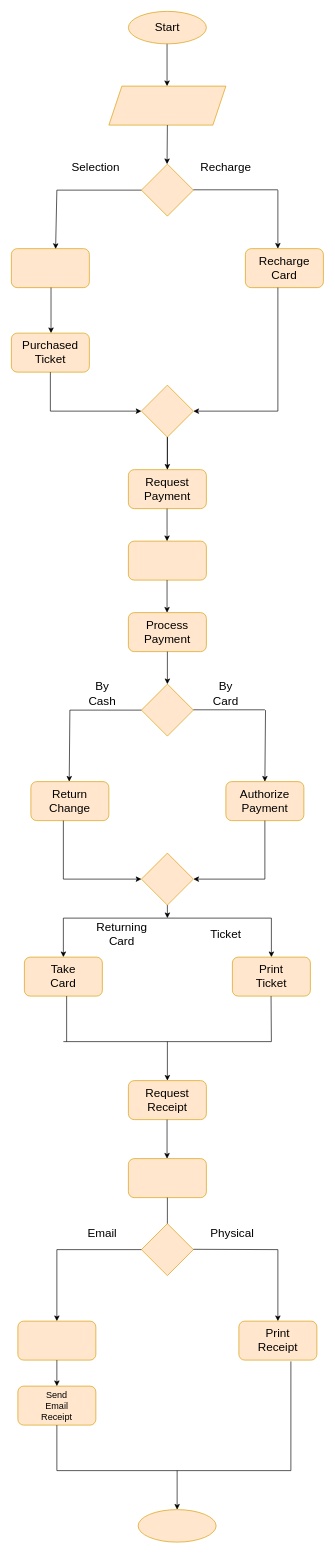
Image size: 335x1554. Some labels were removed from this diagram. Each missing label, with the centre of its shape:
End: (176,1525)
Enter E-mail: (56,1340)
Provide Payment Info: (167,560)
Provide Receipt: (167,1178)
Select Language: (167,105)
Select Ticket: (50,268)
